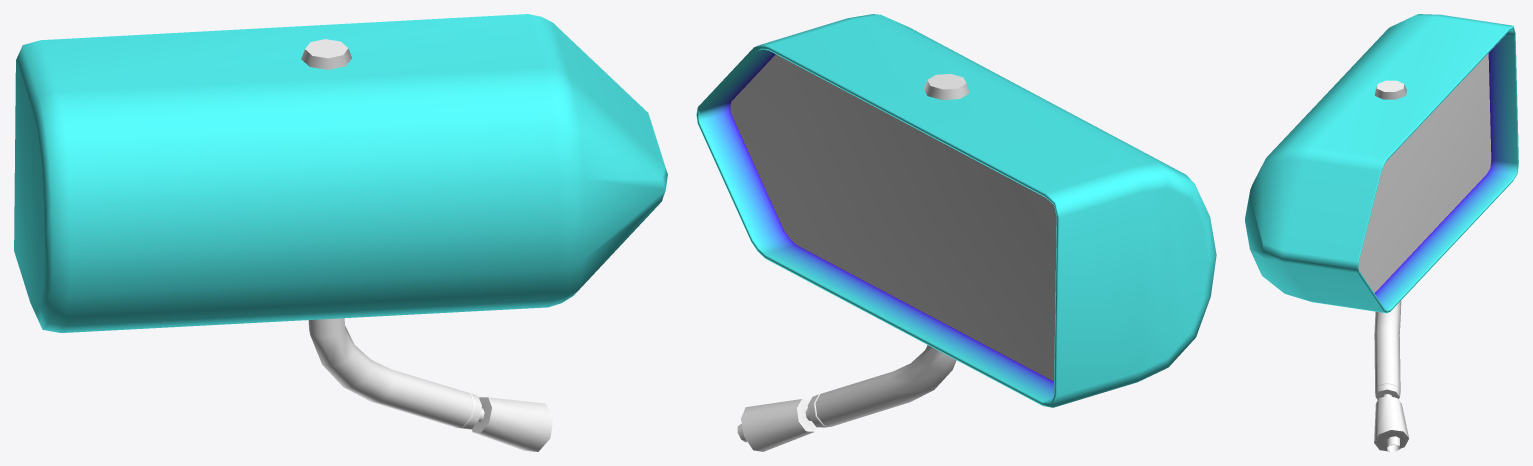
Rendered from Car_Ford_GT_2017_MirrorR_SetXT.fbx.
The picture shows the model from 3 angles, left to right: view 1: azimuth 30°, elevation 25°; view 2: azimuth 150°, elevation 25°; view 3: azimuth 270°, elevation 25°; orthographic projection. The views are drawn at different scales.
Visible parts, largest first — view 1: MirrorR 6; view 2: MirrorR 6; view 3: MirrorR 6.
Part boxes in pixels (<box>): MirrorR 6: <box>14,14,667,451</box>; MirrorR 6: <box>696,14,1216,451</box>; MirrorR 6: <box>1245,14,1518,451</box>.
Bounding box in the file's own units: 0.1898 × 0.1407 × 0.116.
